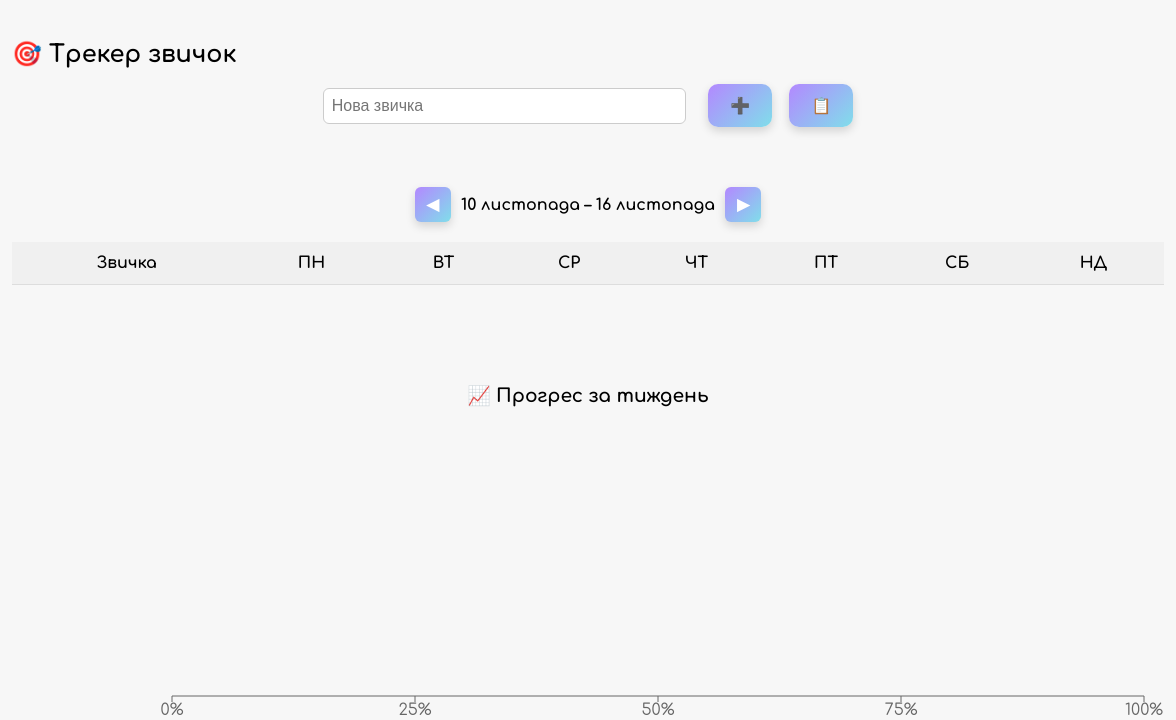
Test: відображає список рекомендованих звичок і вибирає одну
Click the button "📋" at (821, 106), box x1=789 y1=84 x2=853 y2=127
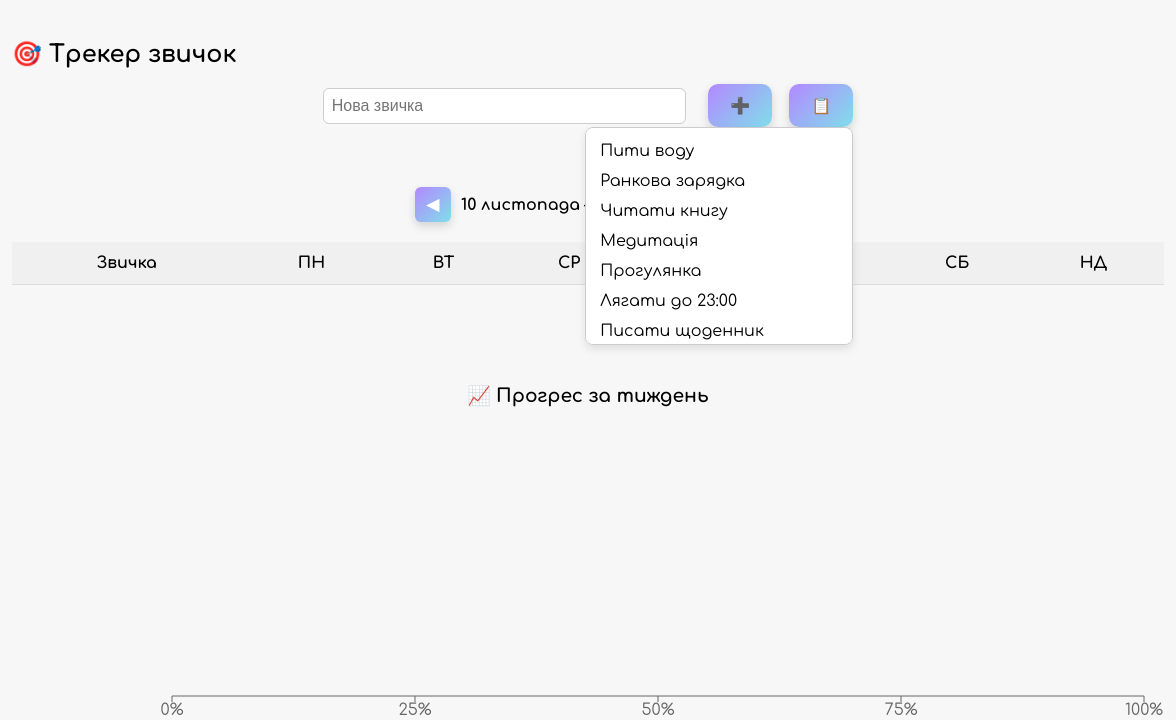
Click the text "Пити воду" at (647, 151), box x1=600 y1=142 x2=694 y2=160
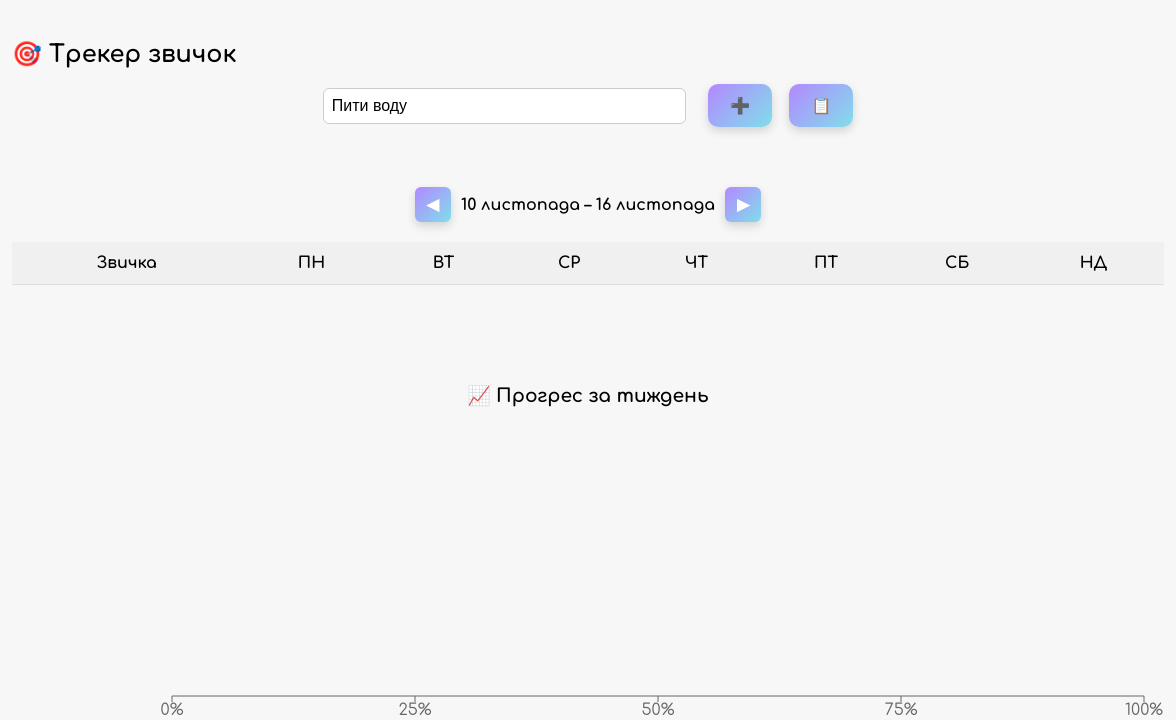
Now the field showing "Пити воду" is shown, box x1=323 y1=88 x2=686 y2=124
